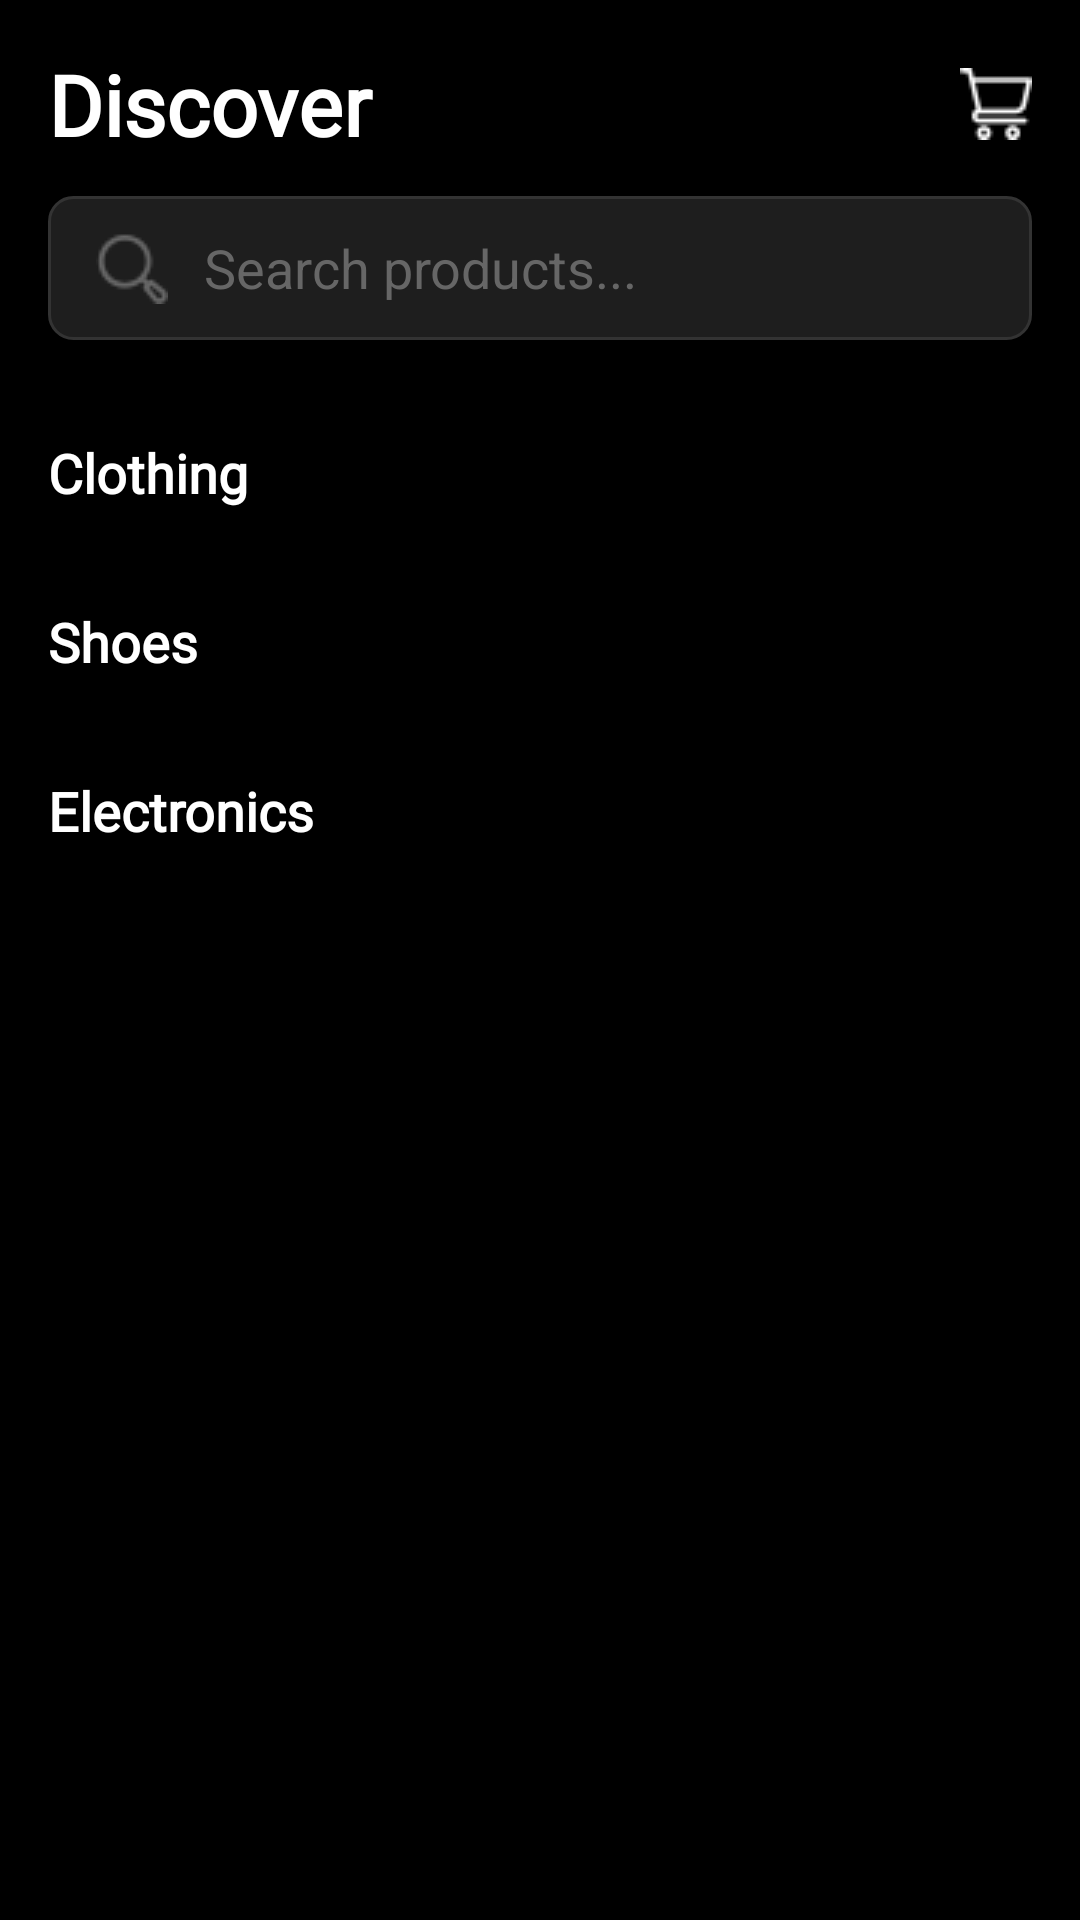

Where icons sit on this 1080px x 1920px app screen, as {"x1": x1, "y1": y1, "x2": x2, "y2": y2}:
cart: {"x1": 960, "y1": 68, "x2": 1032, "y2": 140}
